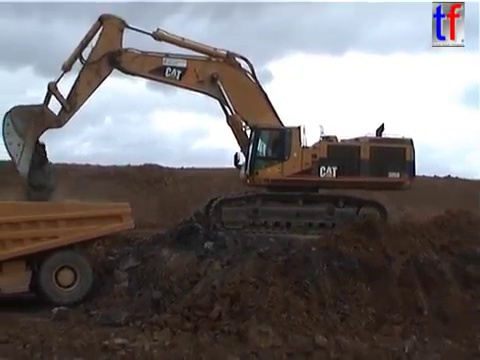excavator: (1, 10, 419, 241)
truck: (1, 196, 136, 306)
